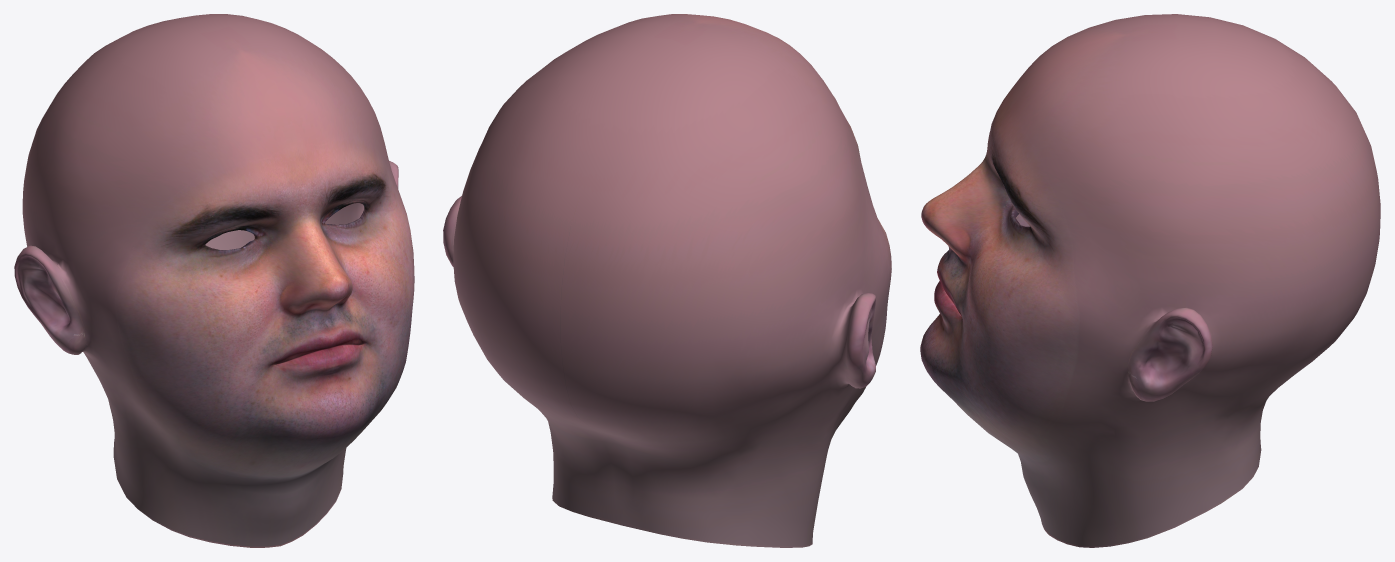
3 views of the same model, side by side, from view 1: azimuth 30°, elevation 25°; view 2: azimuth 150°, elevation 25°; view 3: azimuth 270°, elevation 25° (orthographic). The views are drawn at different scales.
Parts seen in each view (by area): view 1: FaceGen; view 2: FaceGen; view 3: FaceGen.
Part boxes in pixels (left/top/right/bottom): FaceGen: left=14, top=14, right=414, bottom=547; FaceGen: left=443, top=14, right=891, bottom=547; FaceGen: left=920, top=14, right=1380, bottom=547.
Size of the model in its own units: 230 by 277 by 235.
Materials: 1 (1 with a texture image).
